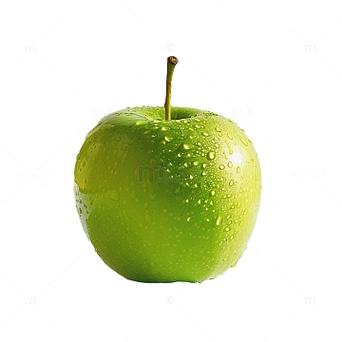unripe: (61, 49, 273, 291)
